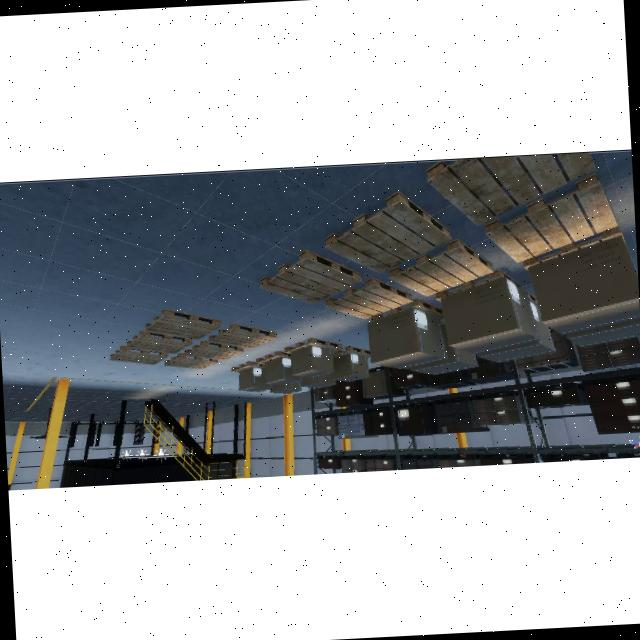wooden_pallet: (523, 226, 622, 270), (435, 269, 523, 302), (370, 299, 444, 321), (284, 338, 343, 355), (255, 351, 292, 365), (334, 346, 371, 358), (231, 361, 265, 373)
